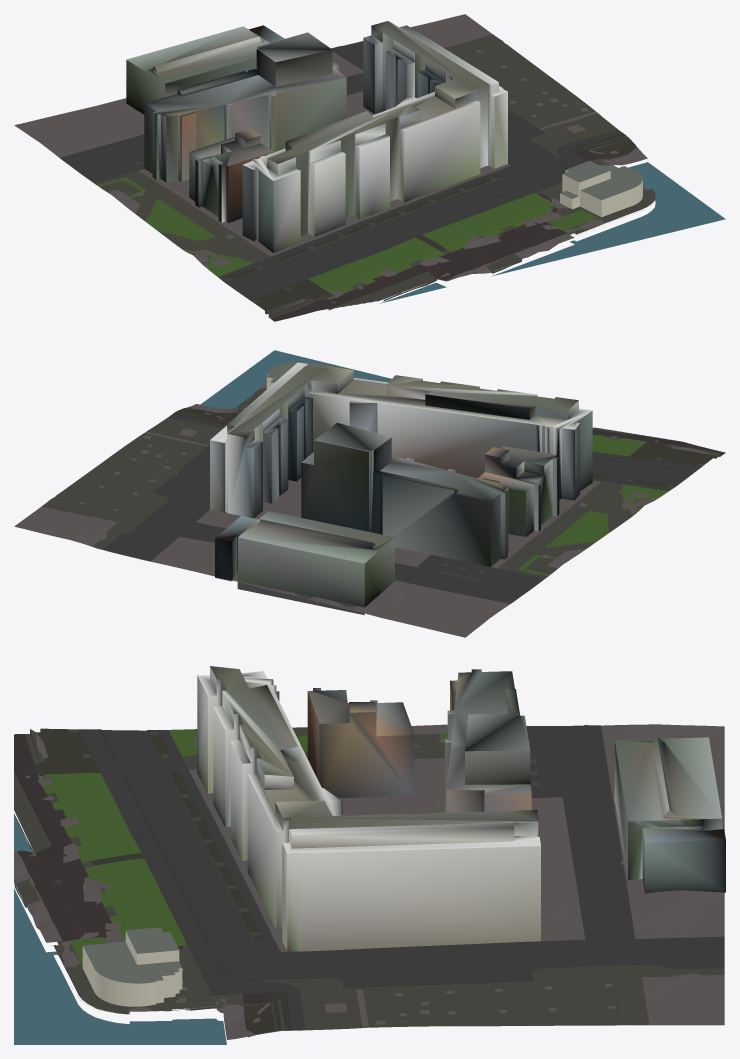
3 renders of one model, top to bottom at view 1: azimuth 30°, elevation 25°; view 2: azimuth 150°, elevation 25°; view 3: azimuth 270°, elevation 25°, orthographic. The views are drawn at different scales.
Parts seen in each view (by area): view 1: c_m18_p06; view 2: c_m18_p06; view 3: c_m18_p06.
Boxes of the visible parts, x1,y1,x2,y2 form: c_m18_p06: (14,14,725,321); c_m18_p06: (14,350,725,637); c_m18_p06: (14,666,725,1044).
Bounding box in the file's own units: 128 × 28.21 × 128.
